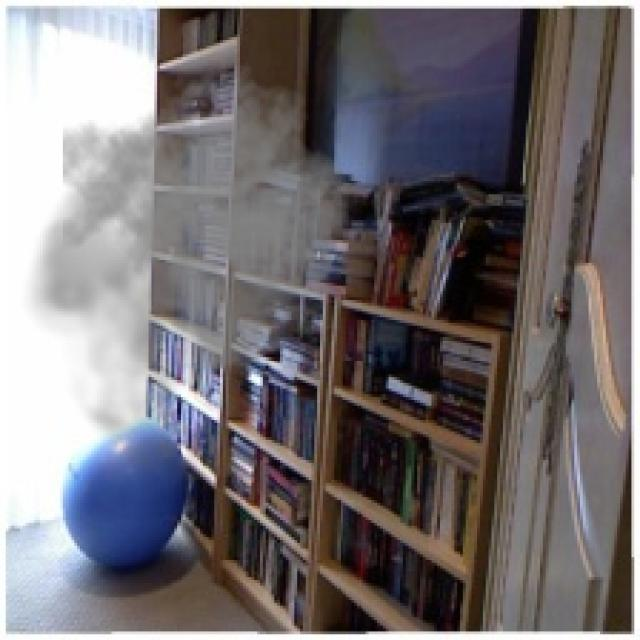smoke: (20, 63, 374, 480)
